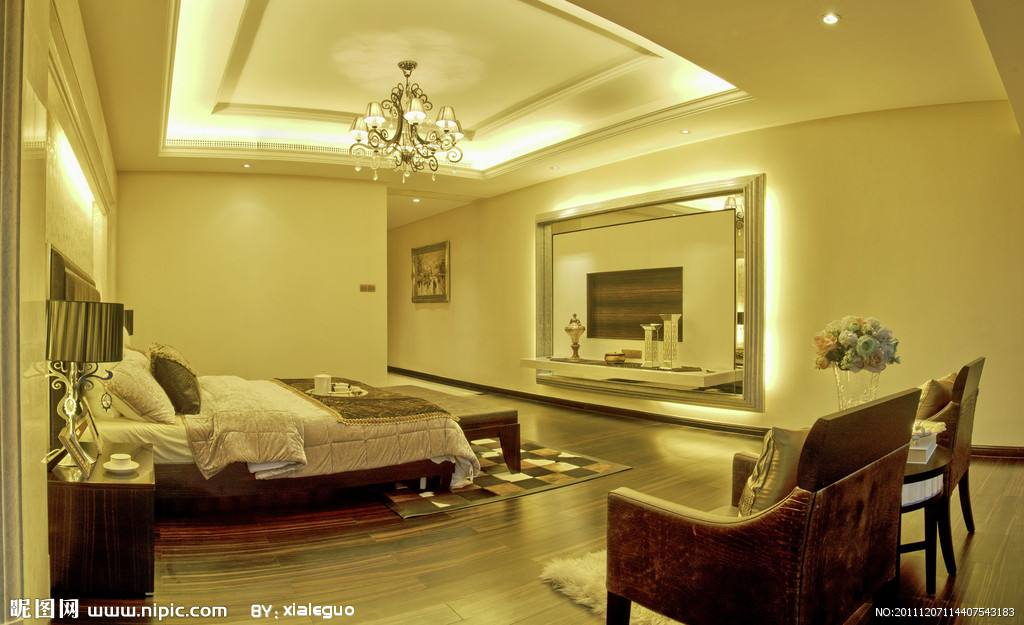床: (117, 371, 480, 509)
枕头: (93, 344, 202, 431)
灯: (29, 298, 132, 465), (339, 58, 467, 187), (817, 10, 843, 31), (233, 161, 255, 176)
